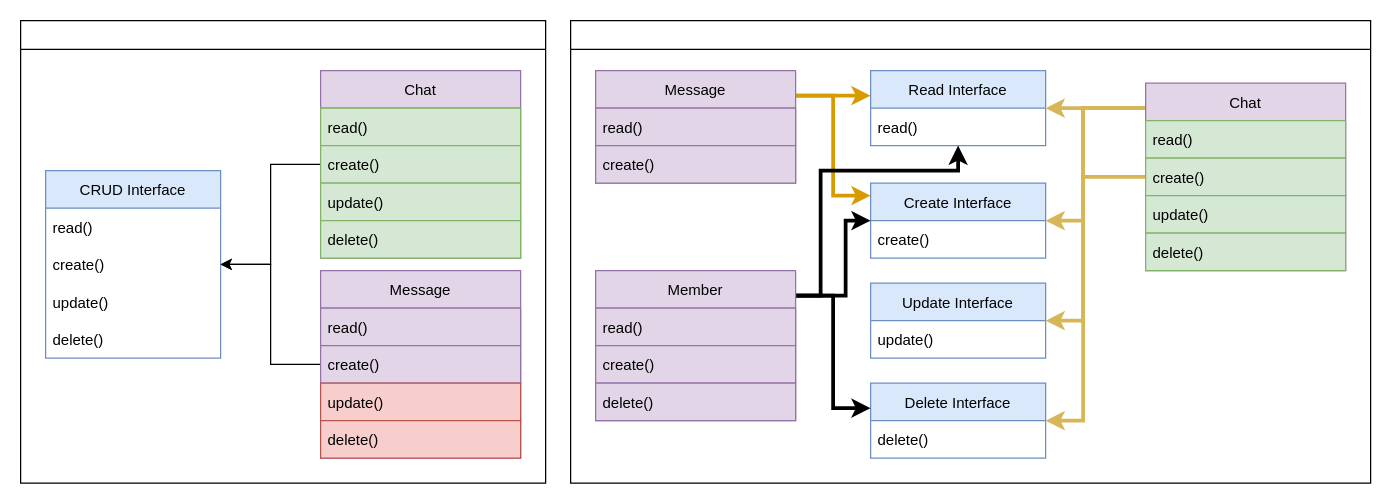
This 1391x504 diagram has some shape labels left out. The centre of each missing label's shape, as x and y in pixels:
Общий интерфейс: (x=282, y=251)
Разделенные интерфейсы: (x=970, y=251)
